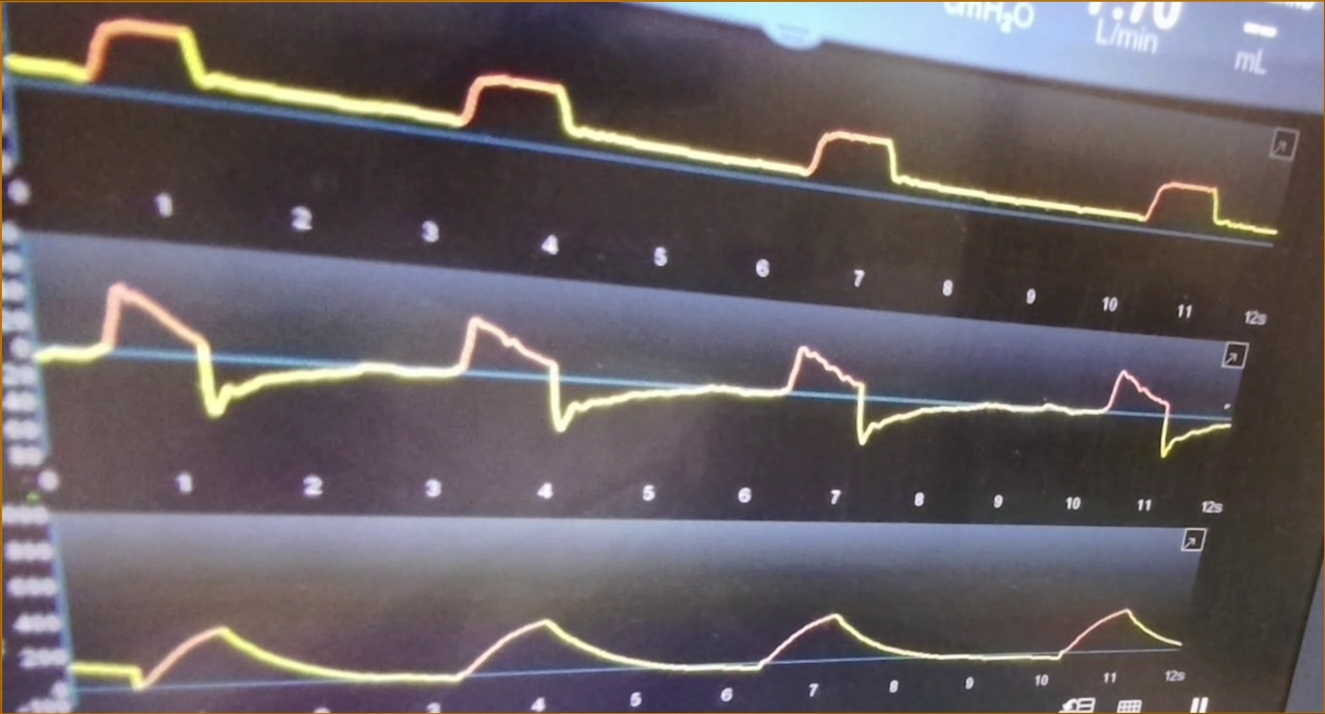Accumulation Flow: (41, 286, 1224, 462)
Volume: (74, 542, 1186, 689)
